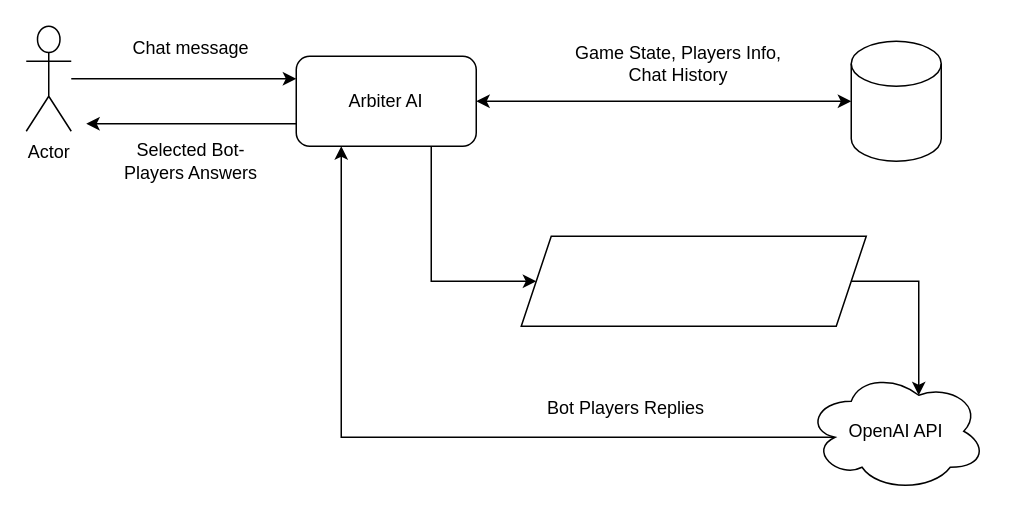
Image size: 1013x518. Some labels were removed from this diagram. Here are the shapes that lost their labels. From the top down, the centre of each, then its label:
point (895, 100): Redis
point (693, 280): Choose Bot-Players and order to reply to the player and to other Bot-Players
